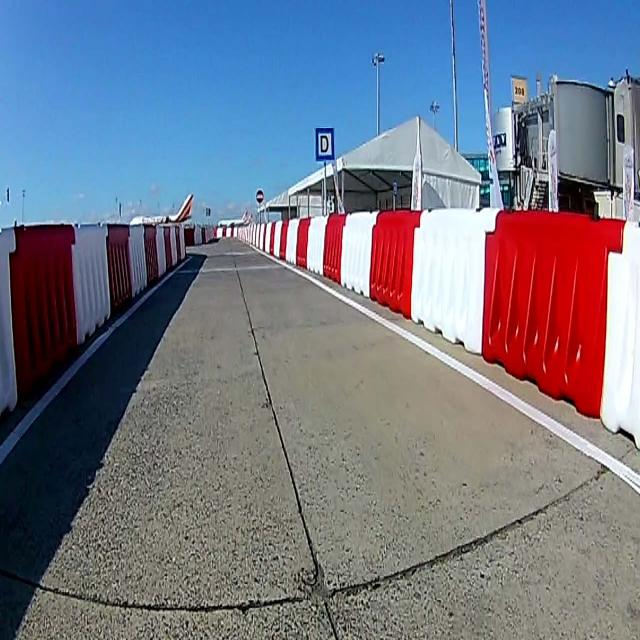durak: (314, 125, 334, 160)
girisyok: (255, 187, 265, 205)
